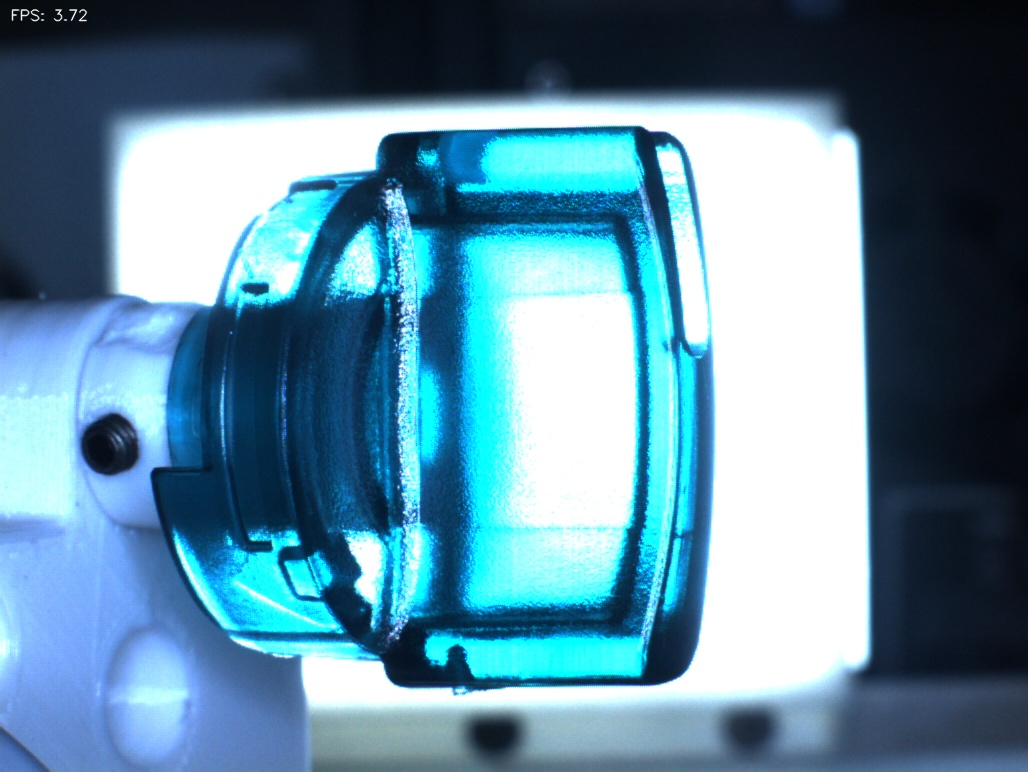Bulle: (420, 608, 496, 685)
